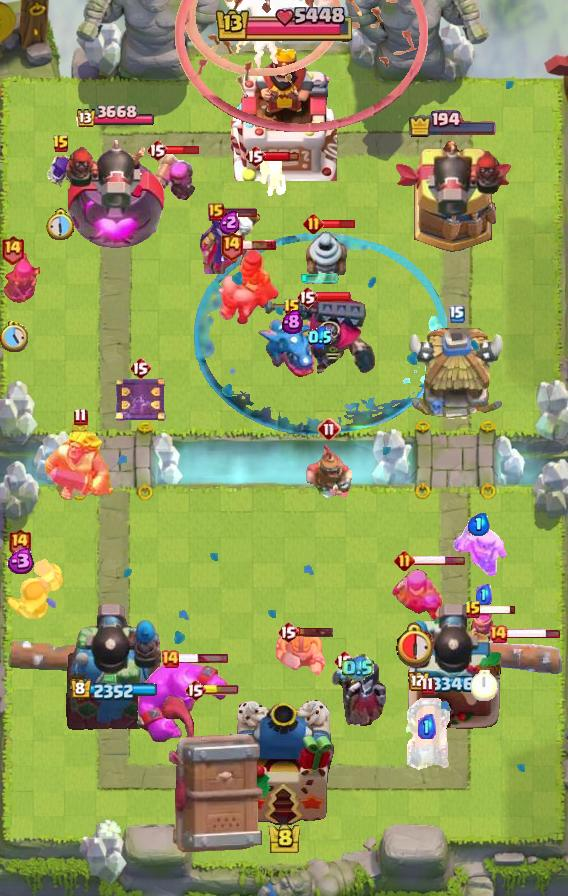arrows: (452, 523, 507, 577)
axe: (198, 208, 262, 274)
barbarian-evolution: (183, 0, 342, 76)
battle-healer: (404, 692, 450, 774)
cannon: (468, 609, 500, 653)
clock: (213, 7, 355, 45)
clone: (134, 658, 230, 744)
dart-goblin: (160, 694, 264, 853)
earthquake: (304, 437, 354, 505)
electro-spirit: (342, 654, 374, 682), (4, 548, 35, 574), (308, 325, 332, 349), (282, 309, 303, 335), (219, 210, 241, 234), (468, 512, 490, 535), (418, 714, 436, 739), (476, 583, 492, 604)
elite-barbarian: (216, 248, 280, 328)
elixir: (396, 621, 438, 667), (46, 208, 76, 240), (0, 321, 28, 351), (471, 671, 498, 701)
emote: (507, 627, 562, 640), (412, 554, 466, 566), (177, 652, 229, 664), (297, 626, 335, 638), (264, 150, 300, 162), (222, 206, 258, 218), (241, 239, 277, 251), (316, 291, 352, 303), (167, 144, 202, 156), (323, 218, 358, 230), (480, 605, 517, 616), (203, 685, 239, 695)
evolution-symbol: (0, 251, 40, 311)
goblin: (45, 154, 77, 192)
goblin-drill: (304, 226, 350, 280)
goblin-giant: (275, 628, 327, 676)
goblin-hut: (43, 427, 117, 505)
graveyard: (257, 310, 327, 378)
heal-spirit: (258, 153, 288, 197)
ice-spirit: (300, 272, 340, 284)
ice-spirit-evolution-symbol: (113, 374, 167, 424)
inferno-tower: (262, 293, 378, 379)
king-tower: (231, 45, 337, 181), (234, 700, 334, 826)
mighty-miner: (0, 557, 64, 623)
minion: (7, 637, 107, 675), (463, 638, 565, 674)
pad_0: (193, 233, 447, 439)
prince: (406, 328, 508, 424)
rascal-boy: (330, 659, 386, 731)
rascal-girl: (389, 565, 445, 625)
selected: (408, 110, 498, 138), (70, 678, 158, 701), (74, 105, 154, 130), (409, 672, 497, 694)
skeleton-barrel: (175, 0, 429, 134)
text: (220, 231, 245, 262), (7, 527, 32, 558), (0, 235, 24, 266), (317, 417, 341, 441), (146, 138, 168, 162), (244, 144, 266, 168), (296, 285, 318, 309), (129, 356, 151, 380), (277, 620, 299, 644), (333, 649, 355, 673), (184, 678, 206, 702), (304, 213, 325, 235), (394, 549, 415, 571), (488, 624, 508, 644), (160, 649, 180, 669), (52, 134, 70, 154), (283, 298, 301, 318), (464, 600, 482, 620), (208, 203, 224, 221), (449, 305, 465, 323), (73, 407, 87, 426), (421, 677, 435, 695)
tombstone: (149, 151, 199, 203)
tower-bar: (392, 138, 514, 256), (60, 132, 167, 256), (64, 601, 164, 731), (403, 601, 503, 731)
